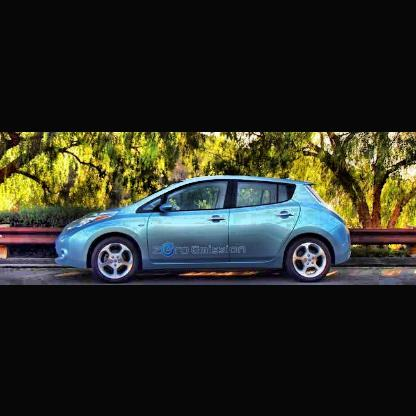Nissan Leaf Hatchback 2012: (54, 175, 353, 283)
